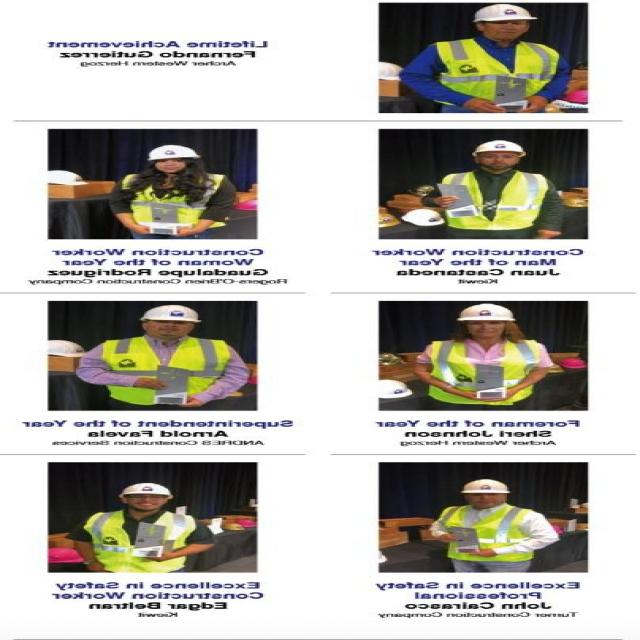Reflective-Jacket: (94, 334, 242, 407), (426, 38, 566, 111), (420, 336, 546, 406), (114, 169, 238, 235), (82, 508, 202, 572), (438, 169, 552, 232), (436, 502, 537, 564)
Safety-Helmet: (466, 3, 542, 23), (452, 303, 518, 324), (138, 304, 204, 324), (141, 142, 203, 162), (456, 477, 514, 495), (471, 138, 529, 155), (117, 481, 176, 497)
